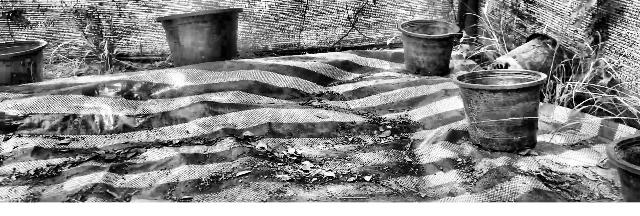pot: (454, 72, 556, 152), (152, 12, 260, 62), (490, 28, 572, 83), (393, 15, 462, 78), (599, 132, 640, 201), (0, 39, 50, 86)
